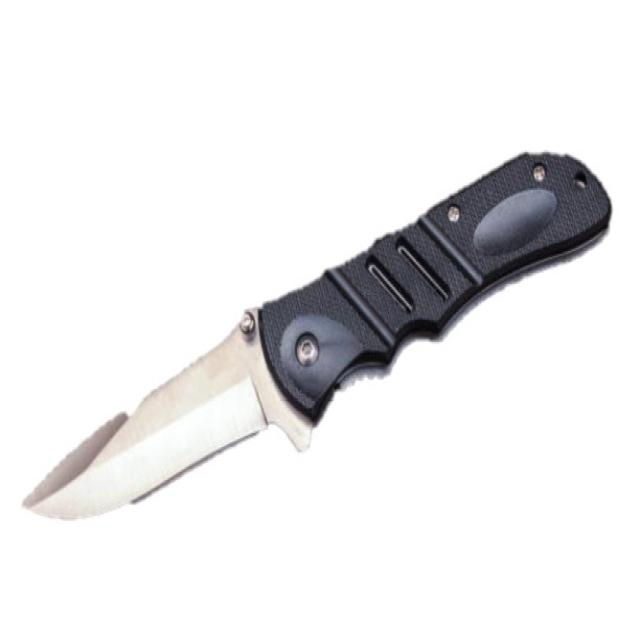knife: (15, 148, 613, 529)
